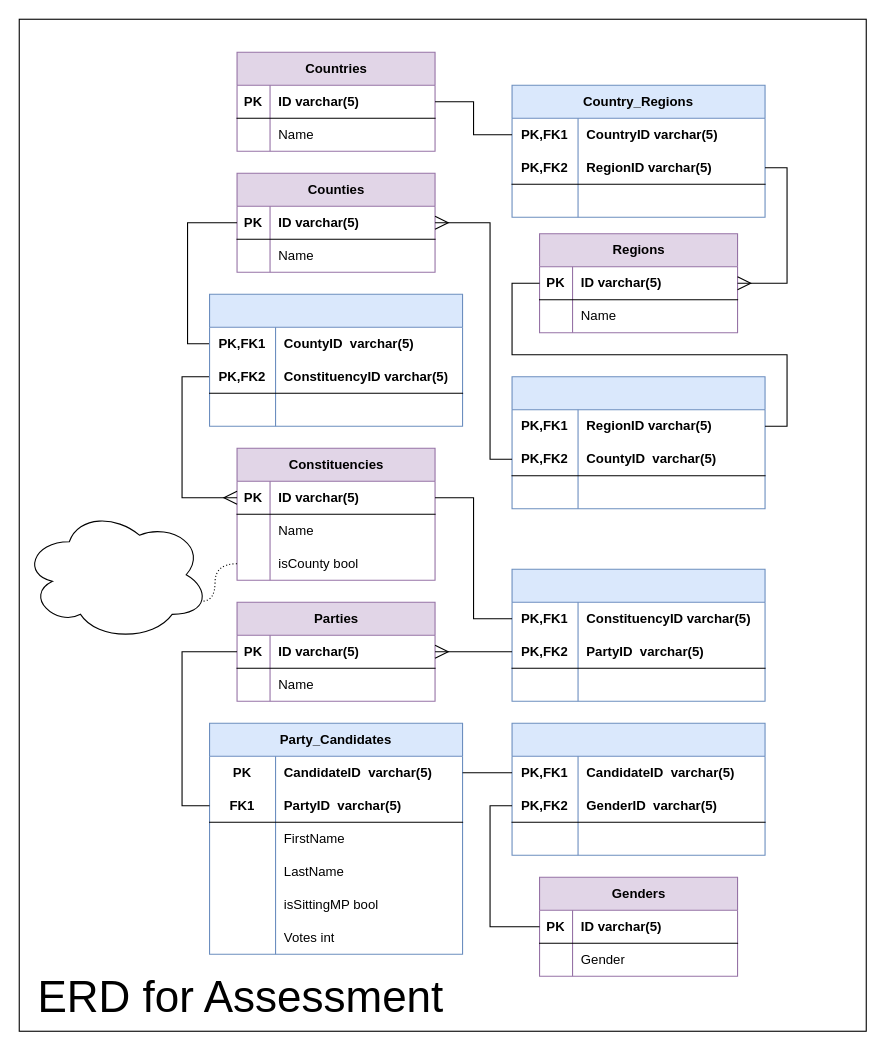
The diagram is 886 pixels wide and 1051 high, and some of its shapes have lost their labels. The box of each missing label's shape, as (x1, y1, x2, y2) in pixels:
Candidate_Gender: (511, 722, 765, 855)
Costituency_Parties: (511, 568, 765, 701)
County_Constituencies: (208, 293, 463, 426)
Region_Counties: (511, 376, 765, 509)
When not a county it's a borough: (21, 508, 210, 641)
